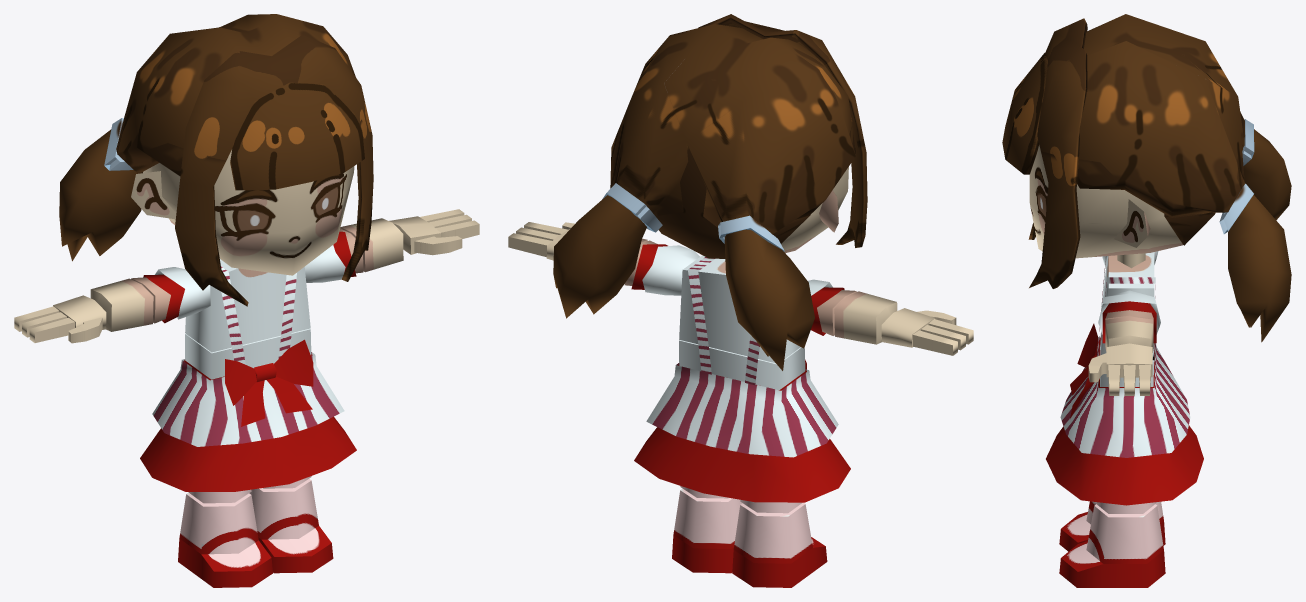
File: christmasgirl.fbx
The picture shows the model from 3 angles, left to right: view 1: azimuth 30°, elevation 25°; view 2: azimuth 150°, elevation 25°; view 3: azimuth 270°, elevation 25°; orthographic projection.
Parts seen in each view (by area): view 1: v1.6 kid base.004, Girl Hair, head; view 2: Girl Hair, v1.6 kid base.004, head; view 3: Girl Hair, v1.6 kid base.004, head.
Part boxes in pixels (<box>): v1.6 kid base.004: <box>14,209,479,587</box>; Girl Hair: <box>59,14,373,306</box>; head: <box>131,150,354,275</box>; Girl Hair: <box>553,14,867,370</box>; v1.6 kid base.004: <box>508,222,973,587</box>; head: <box>781,167,848,252</box>; Girl Hair: <box>1002,14,1291,342</box>; v1.6 kid base.004: <box>1046,251,1203,587</box>; head: <box>1029,145,1182,258</box>.
Size of the model in its own units: 3.53 by 4.05 by 2.
3 materials, 3 textured.
